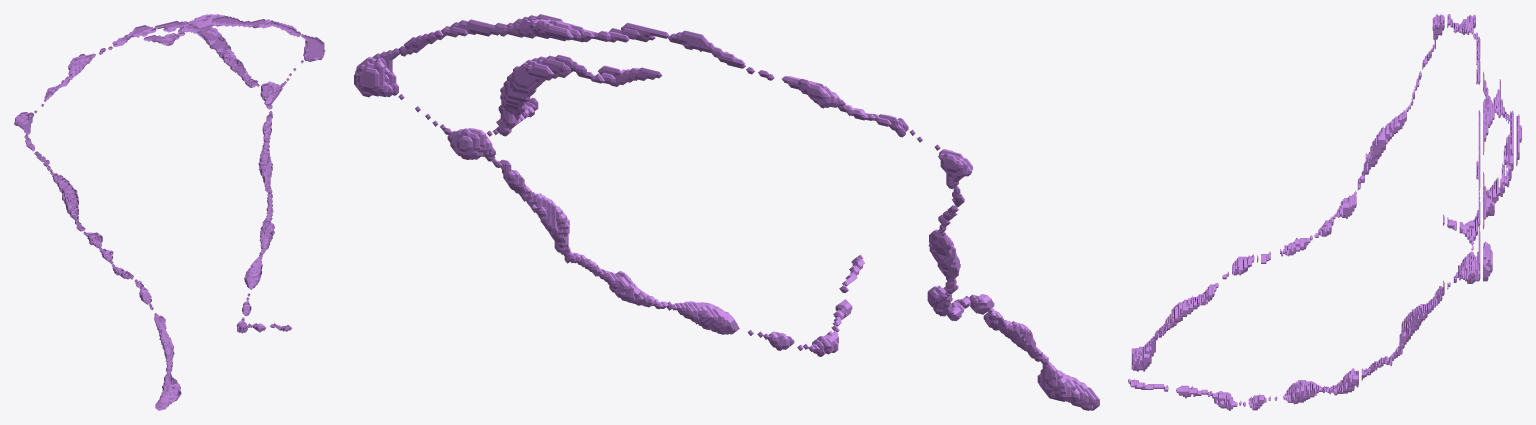
Rendered from SVV_SIBVR.gltf.
The picture shows the model from 3 angles, left to right: view 1: azimuth 30°, elevation 25°; view 2: azimuth 150°, elevation 25°; view 3: azimuth 270°, elevation 25°; orthographic projection. The views are drawn at different scales.
Visible parts, largest first — view 1: SIBVR; view 2: SIBVR; view 3: SIBVR.
Boxes of the visible parts, <box> form: SIBVR: <box>14,14,325,410</box>; SIBVR: <box>354,14,1099,410</box>; SIBVR: <box>1128,14,1521,410</box>.
Bounding box in the file's own units: 99892 × 79933 × 72369.
